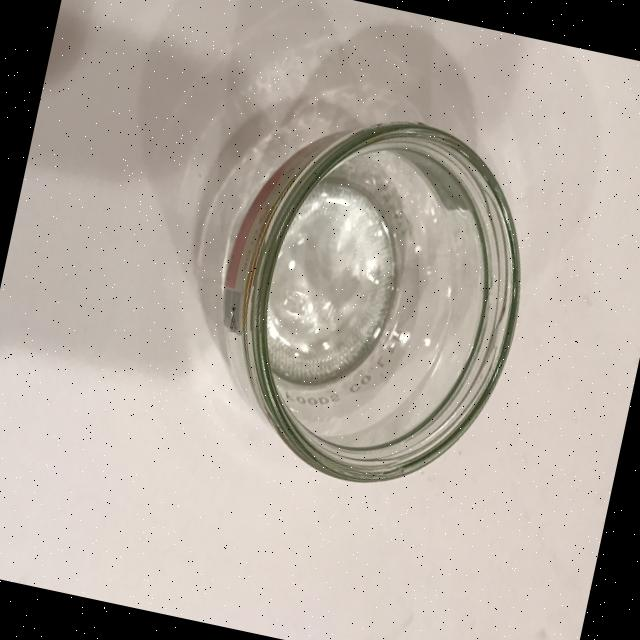glass: (185, 86, 553, 508)
